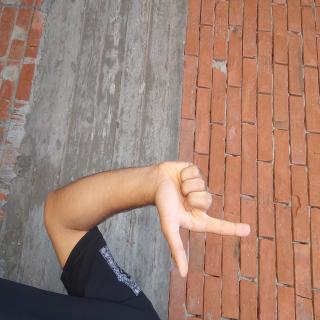LAAM: (117, 87, 208, 261)
